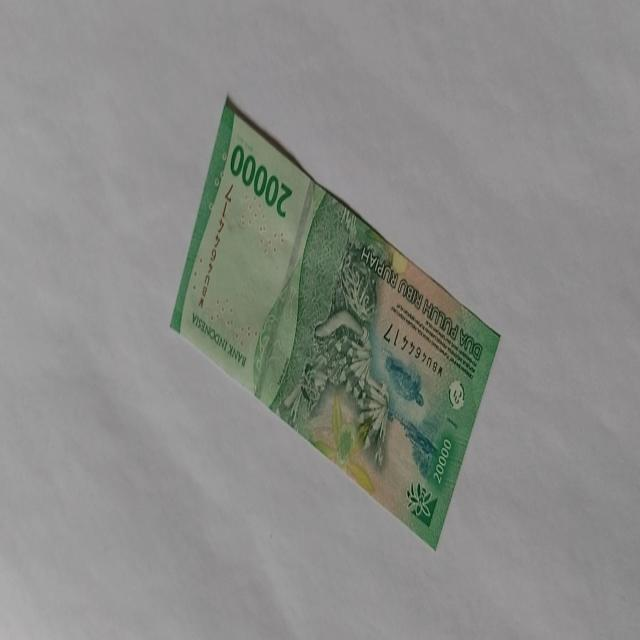dua puluh ribu rupiah: (168, 93, 502, 552)
